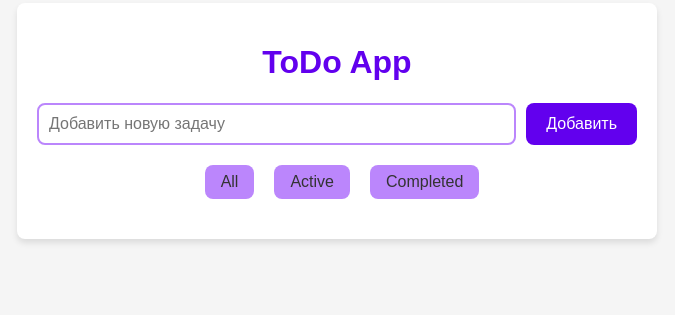
App Component › добавляет новую задачу
Type "Новая задача" into the field with placeholder "Добавить новую задачу" at [277, 124], box [37,103,516,145]
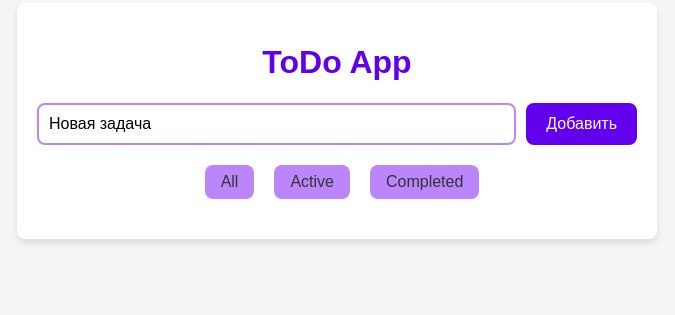
Click the button "Добавить" at [582, 124], box [526,103,637,145]
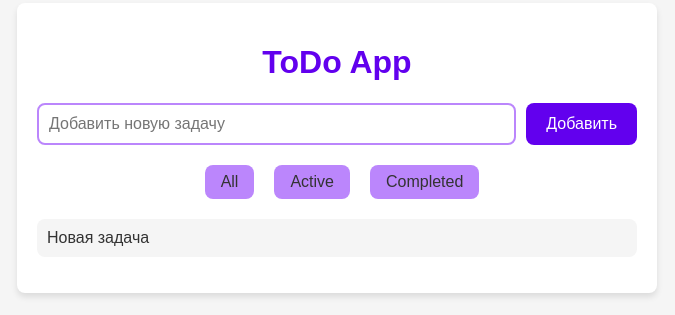
Result: the list item "Новая задача" is shown at [37,219,637,257]
